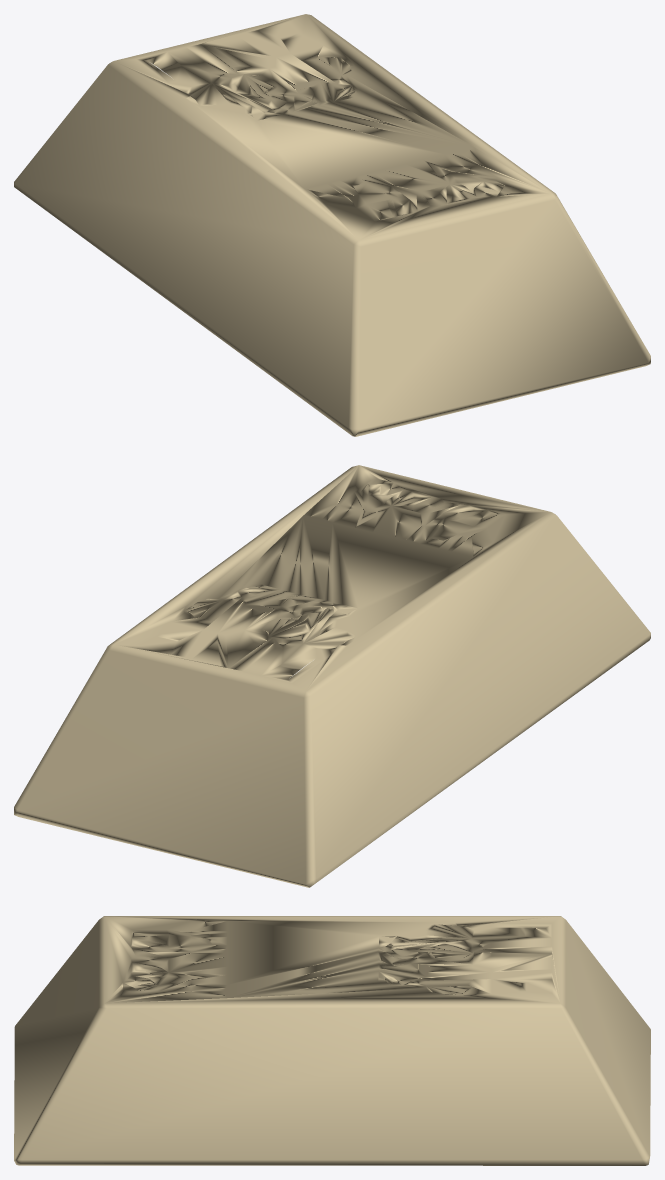
File: gold_bar.glb
3 views of the same model, one above another, from view 1: azimuth 30°, elevation 25°; view 2: azimuth 150°, elevation 25°; view 3: azimuth 270°, elevation 25° (orthographic). The views are drawn at different scales.
Visible parts, largest first — view 1: gold_bar; view 2: gold_bar; view 3: gold_bar.
Part boxes in pixels (x1,y1,x2,y2): gold_bar: (14, 14, 650, 436); gold_bar: (14, 465, 650, 887); gold_bar: (14, 916, 650, 1165).
Size of the model in its own units: 0.1421 by 0.0681 by 0.2799.
